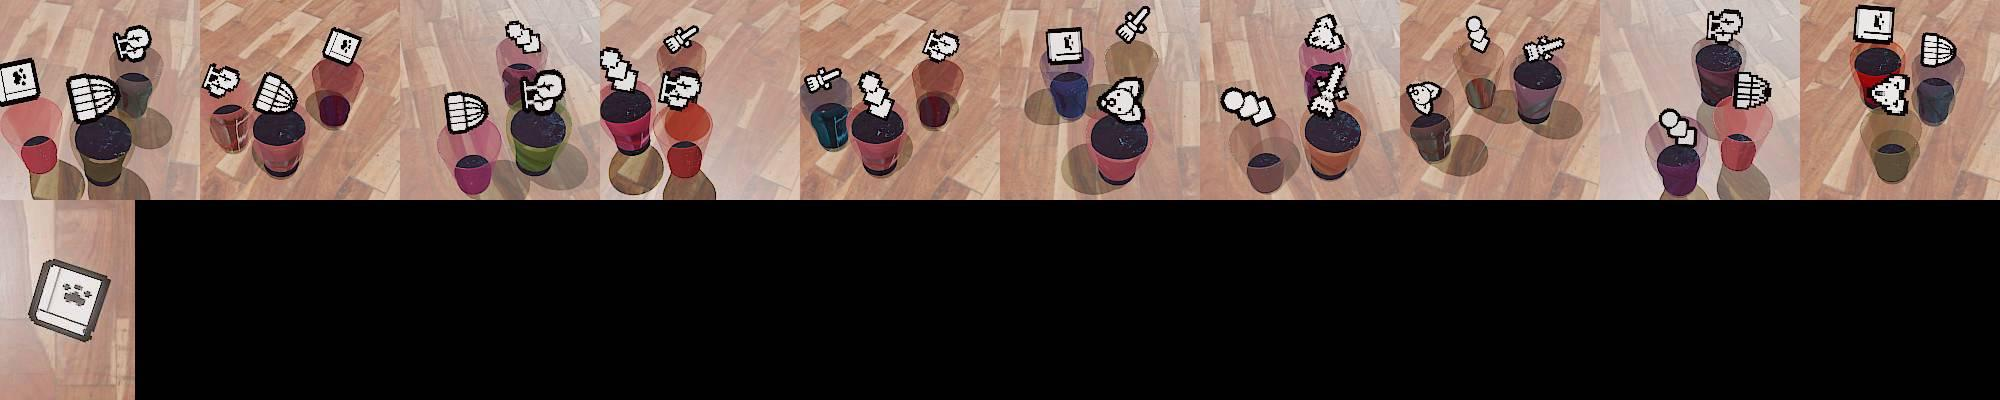icon: (27, 259, 111, 345), (64, 73, 119, 122), (1307, 61, 1351, 120), (1096, 75, 1148, 124), (520, 68, 566, 116), (0, 57, 42, 110), (598, 45, 643, 93), (1222, 85, 1274, 126), (253, 70, 297, 116), (856, 70, 897, 120), (444, 90, 489, 135), (658, 66, 703, 111), (1869, 73, 1911, 116), (321, 25, 362, 66), (1853, 5, 1895, 45), (1658, 106, 1698, 148), (1046, 25, 1085, 65), (1732, 70, 1772, 110), (112, 24, 152, 62), (1306, 13, 1344, 52), (202, 62, 241, 99), (1116, 4, 1151, 45), (1707, 8, 1745, 43), (1407, 79, 1443, 116), (1920, 32, 1955, 69), (504, 20, 542, 55), (921, 28, 960, 61), (1520, 34, 1565, 64), (804, 65, 844, 96), (663, 23, 700, 55), (1466, 15, 1490, 55)
